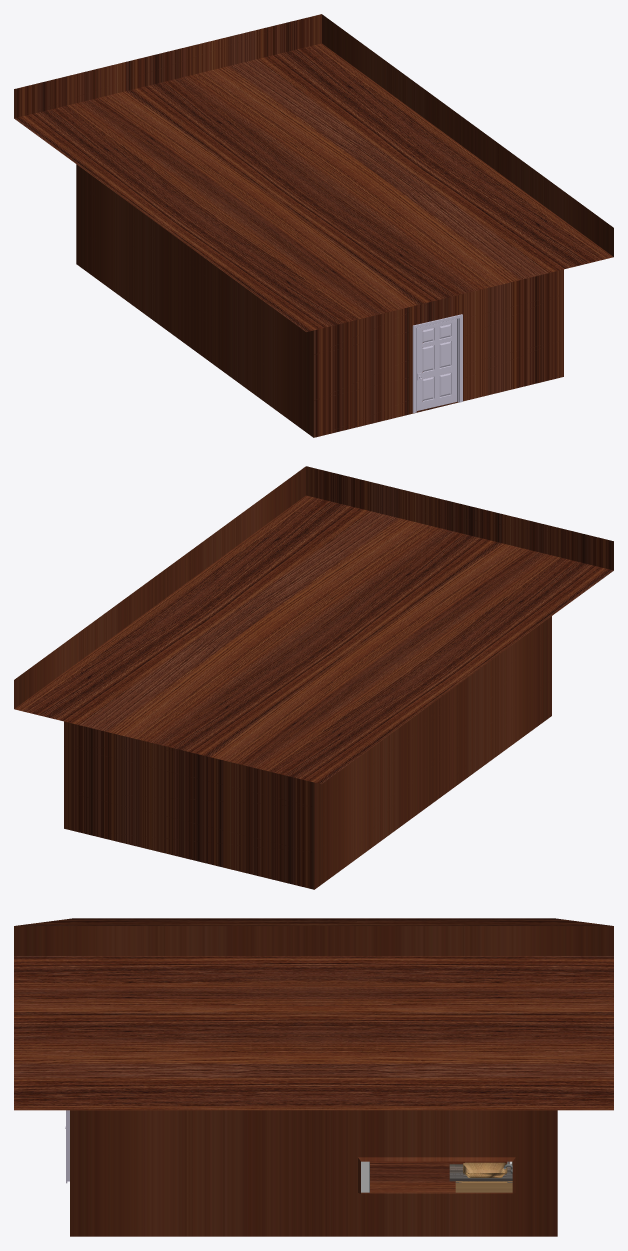
File: doan14.glb
3 views of the same model, one above another, from view 1: azimuth 30°, elevation 25°; view 2: azimuth 150°, elevation 25°; view 3: azimuth 270°, elevation 25° (orthographic). The views are drawn at different scales.
Parts seen in each view (by area): view 1: House, Cua_Vao; view 2: House; view 3: House, Bep.
Boxes of the visible parts, x1,y1,x2,y2 form: House: [14, 14, 613, 437]; Cua_Vao: [412, 314, 462, 413]; House: [14, 466, 613, 889]; House: [14, 918, 613, 1236]; Bep: [449, 1161, 512, 1192].
Bounding box in the file's own units: 22.4 × 12.94 × 36.81.
Materials: 18 (8 with a texture image).
